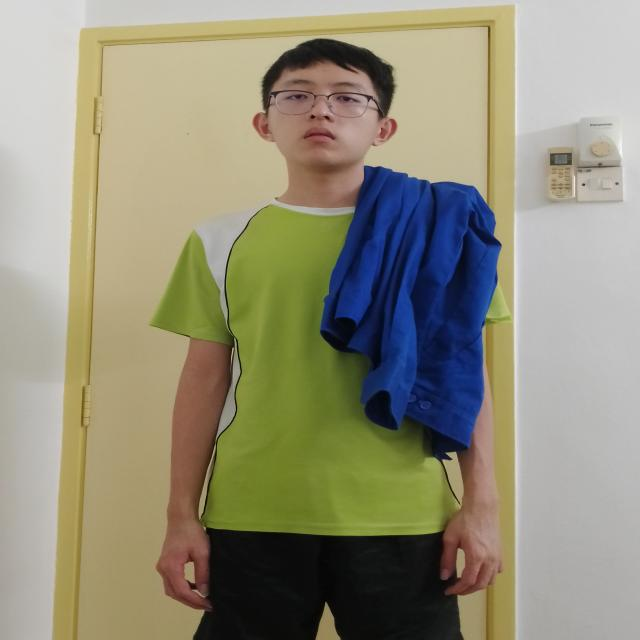person_without_labcoat: (153, 39, 503, 639)
